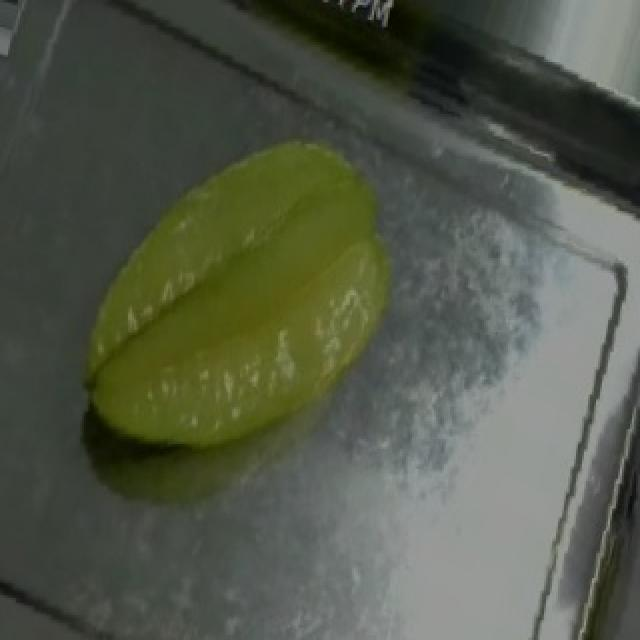fruit: (62, 82, 448, 476)
